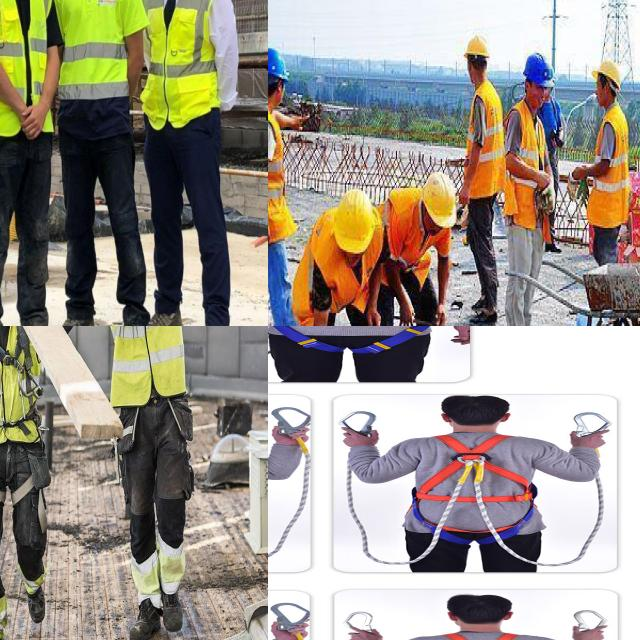Harness: (404, 431, 538, 546)
face_nomask: (526, 79, 547, 114), (590, 82, 609, 108)
hand_noglove: (7, 102, 48, 142), (289, 106, 314, 141), (394, 295, 417, 326), (360, 303, 383, 326), (534, 169, 550, 199), (456, 180, 470, 210), (572, 162, 589, 186), (434, 298, 448, 326)
head_helmet: (334, 190, 374, 252), (422, 166, 456, 227), (524, 52, 555, 84), (593, 56, 620, 82), (269, 47, 289, 77), (464, 32, 490, 55)
person: (146, 0, 242, 326), (97, 326, 195, 640), (56, 0, 150, 326), (0, 0, 67, 326), (0, 326, 53, 640), (455, 30, 501, 326), (503, 51, 549, 326), (296, 186, 385, 326), (383, 165, 455, 326), (269, 48, 307, 326), (586, 56, 624, 262)
shoes: (124, 591, 165, 640), (157, 572, 186, 635), (22, 569, 52, 625), (133, 302, 185, 326), (43, 312, 100, 326), (466, 305, 501, 326)
vest: (51, 0, 138, 132), (136, 0, 225, 126), (0, 0, 54, 133), (0, 326, 46, 448), (107, 326, 187, 387), (514, 106, 544, 215), (300, 241, 347, 303), (473, 87, 500, 193), (269, 116, 292, 236), (604, 111, 625, 220), (389, 189, 418, 265)
